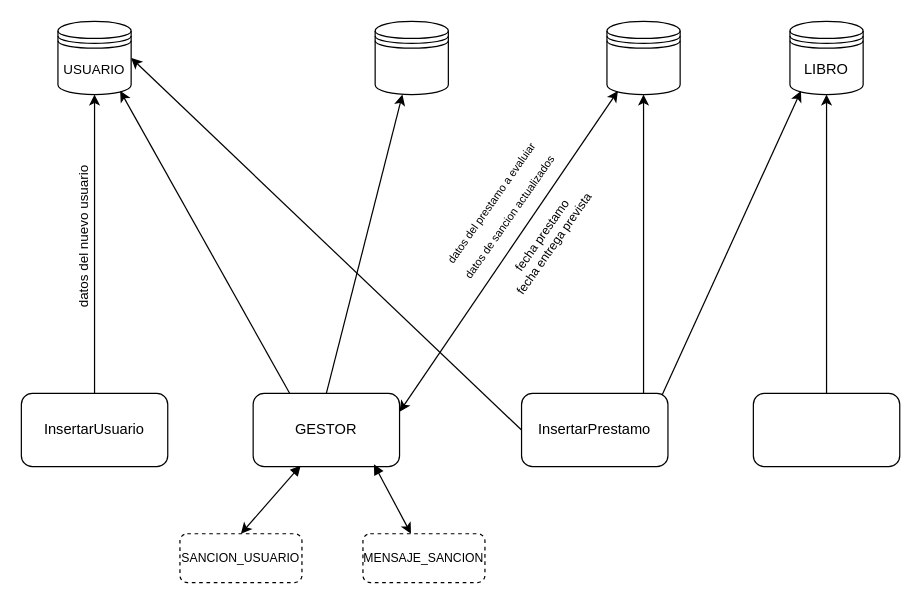
Some shapes in this 921 by 604 pixel diagram are drawn without their labels. Each missing label, with the centre of its shape:
"DarDeAltaLibro" goes at pixel 826 429.
"PRESTAMO" goes at pixel 643 57.
"SANCIONADOS" goes at pixel 411 57.
